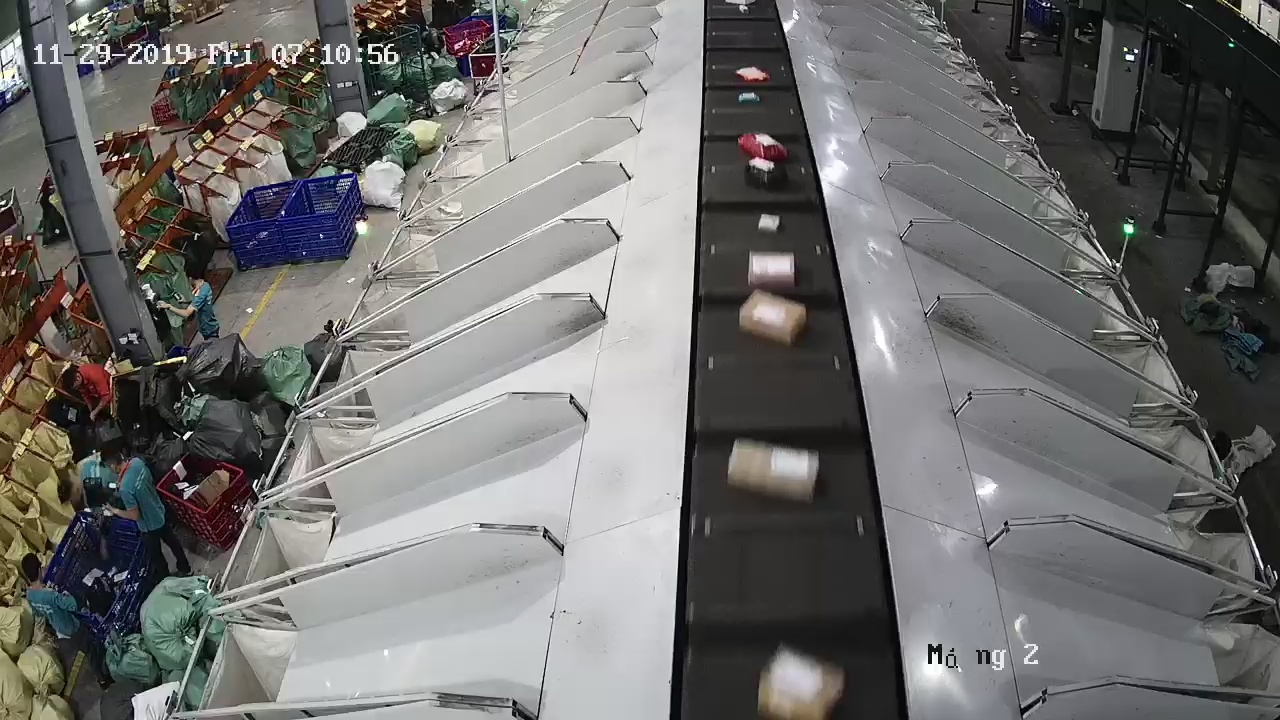parcel: (726, 436, 819, 504), (738, 289, 808, 347), (747, 251, 796, 289), (757, 213, 781, 234)
